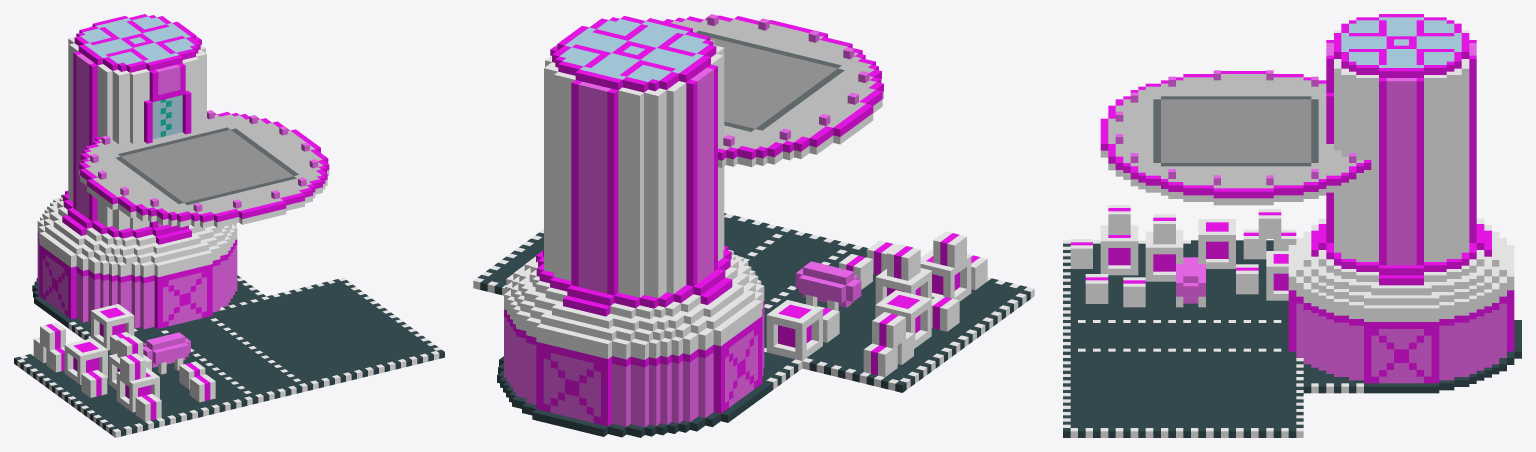
Rendered from airfield.obj.
3 renders of one model, left to right at view 1: azimuth 30°, elevation 25°; view 2: azimuth 150°, elevation 25°; view 3: azimuth 270°, elevation 25°, orthographic. The views are drawn at different scales.
Bounding box in the file's own units: 6 × 4.4 × 6.1.
Materials: 1 (1 with a texture image).
